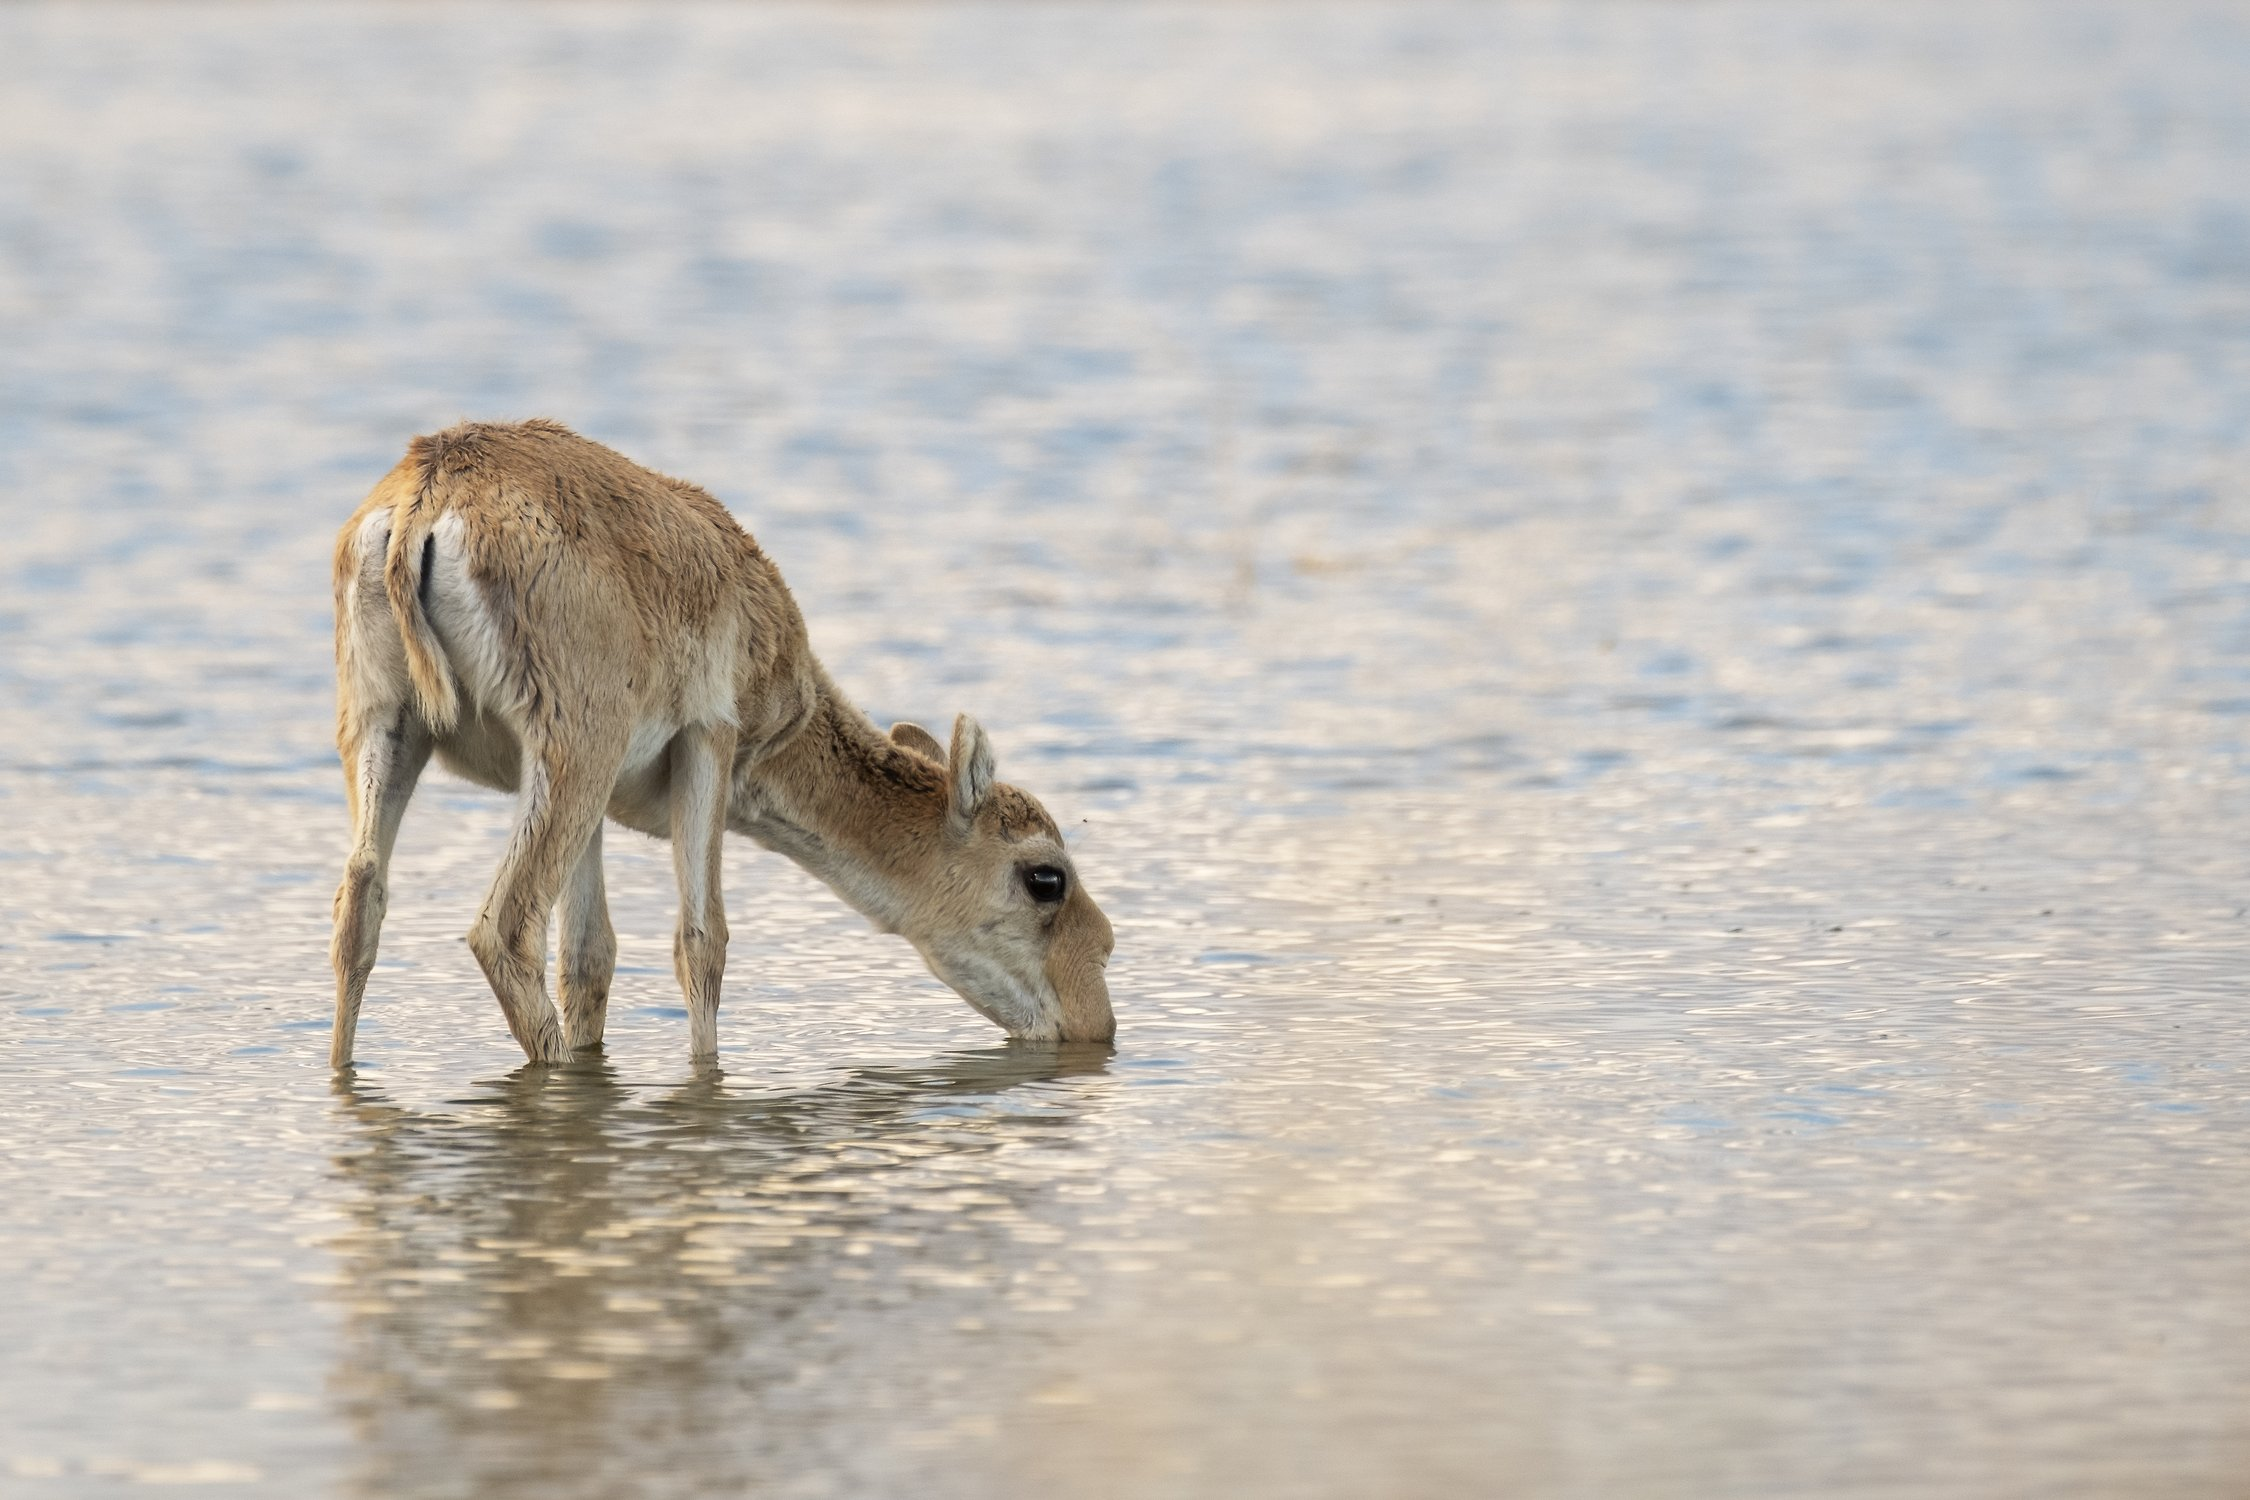saiga: (321, 405, 1140, 1105)
